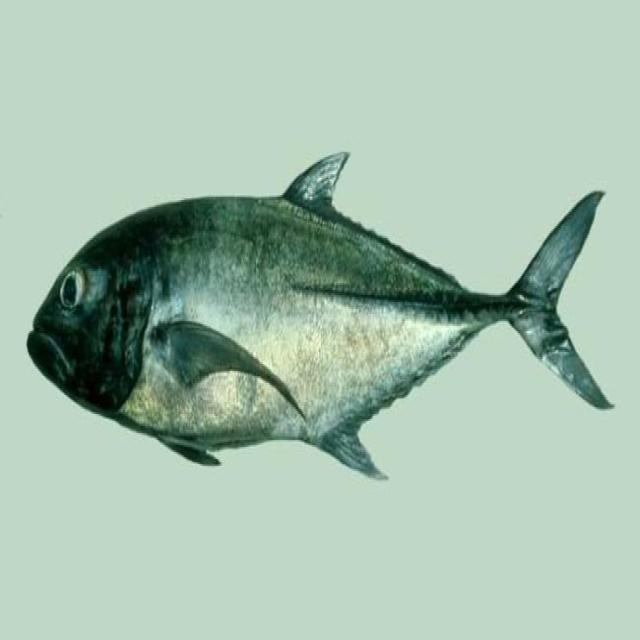ikan: (26, 148, 614, 482)
